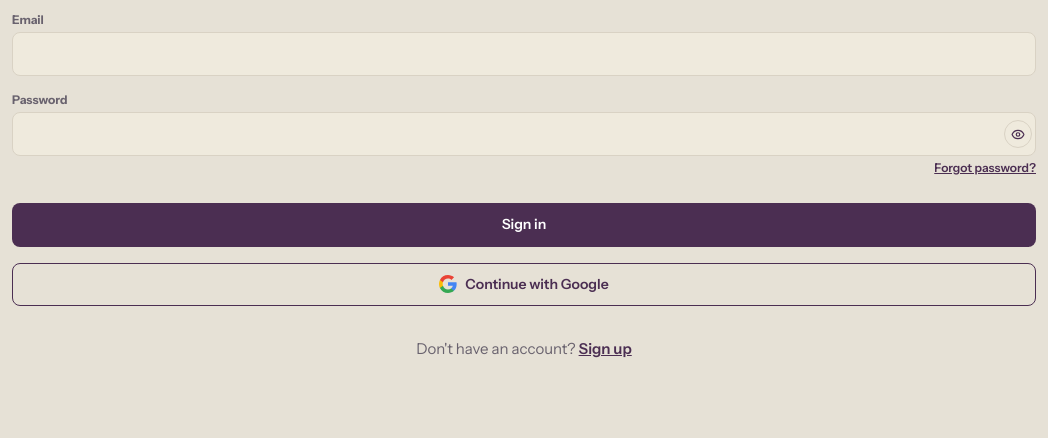
Test case: SignInForm › renders a single form-level Banner on a bad credential pair, not a field-level error
In the field labelled "Email": (524, 54) [12,32,1036,76], type "user@example.com"
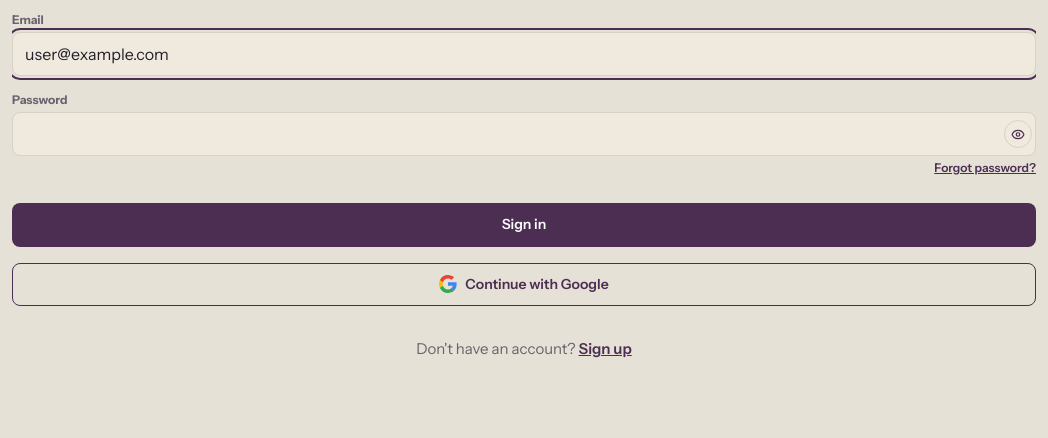
In the password field labelled "Password": (524, 134) [12,112,1036,156], type "wrongpassword"
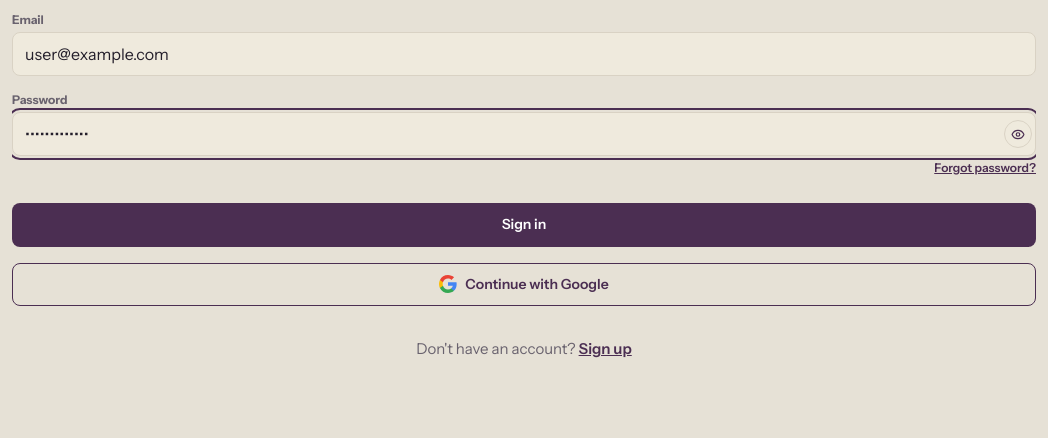
Click the button "Sign in": (524, 225) [12,203,1036,247]
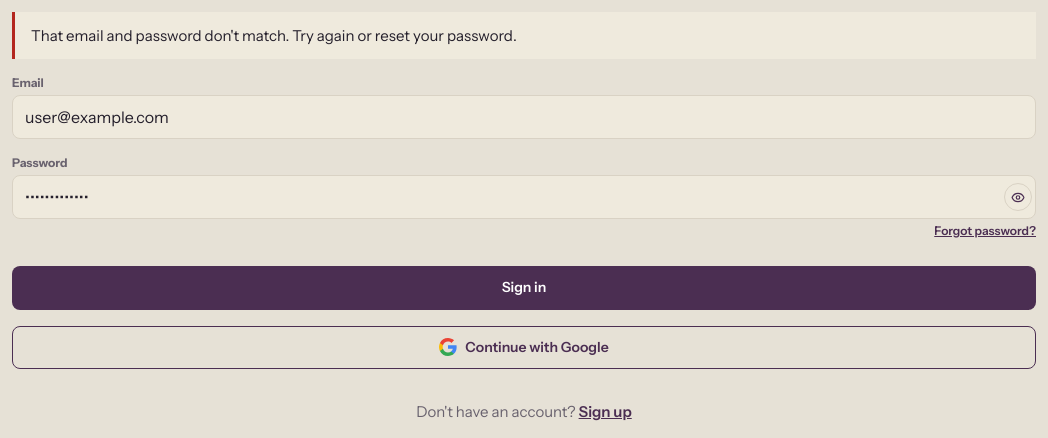
Result: the text "That email and password don't match. Try again or reset your password." is shown at [31,24,517,47]
